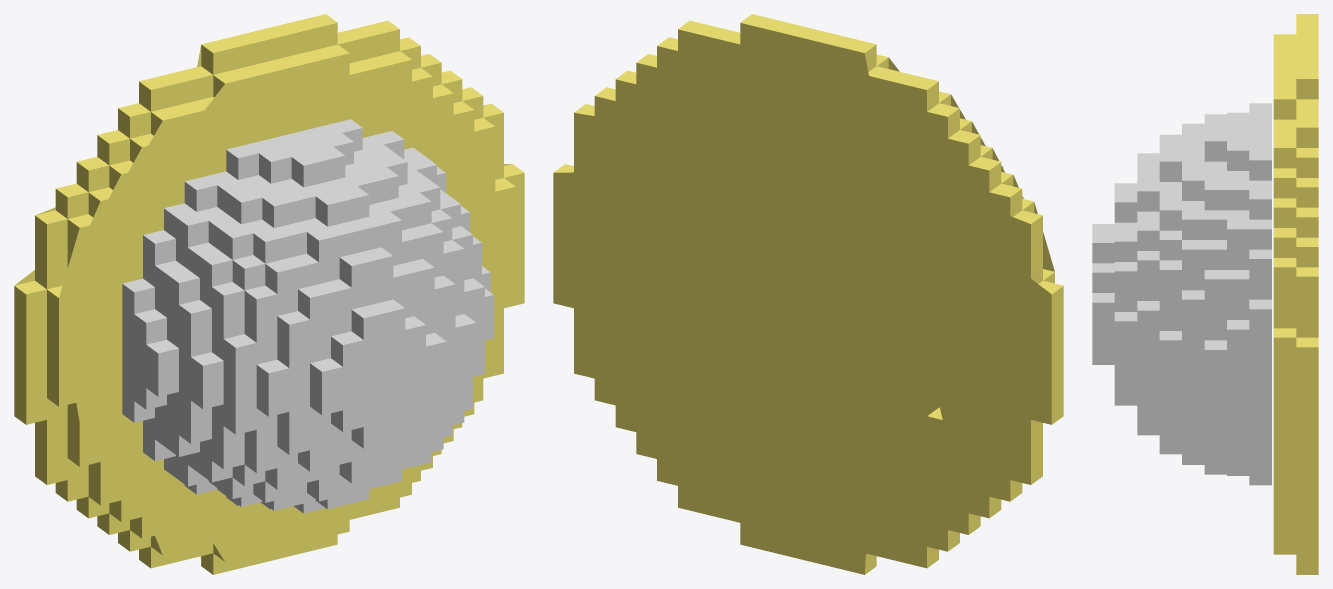
The model's file is SM_CounterGem.fbx.
3 views of the same model, side by side, from view 1: azimuth 30°, elevation 25°; view 2: azimuth 150°, elevation 25°; view 3: azimuth 270°, elevation 25° (orthographic). The views are drawn at different scales.
Parts seen in each view (by area): view 1: SM_counterGem, GenerationCounterRing; view 2: GenerationCounterRing; view 3: SM_counterGem, GenerationCounterRing.
Boxes of the visible parts, x1,y1,x2,y2 form: SM_counterGem: [122, 119, 493, 513]; GenerationCounterRing: [14, 14, 524, 574]; GenerationCounterRing: [553, 14, 1063, 574]; SM_counterGem: [1092, 103, 1271, 485]; GenerationCounterRing: [1273, 14, 1318, 574].
Bounding box in the file's own units: 240 × 240 × 101.
